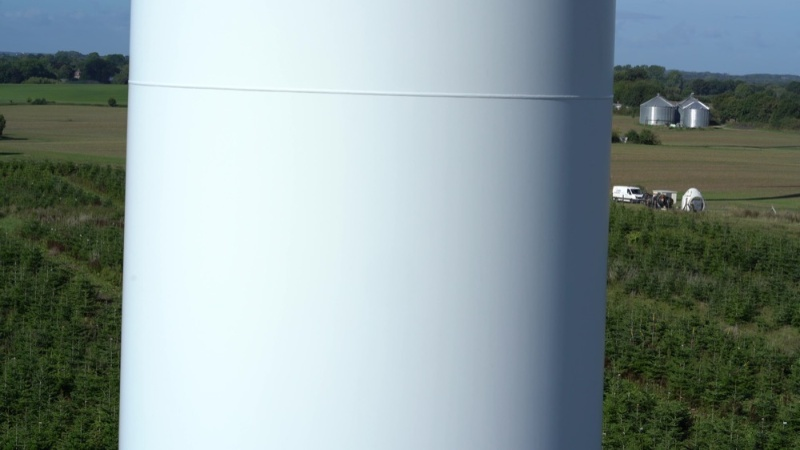weldseam: (127, 73, 615, 110)
